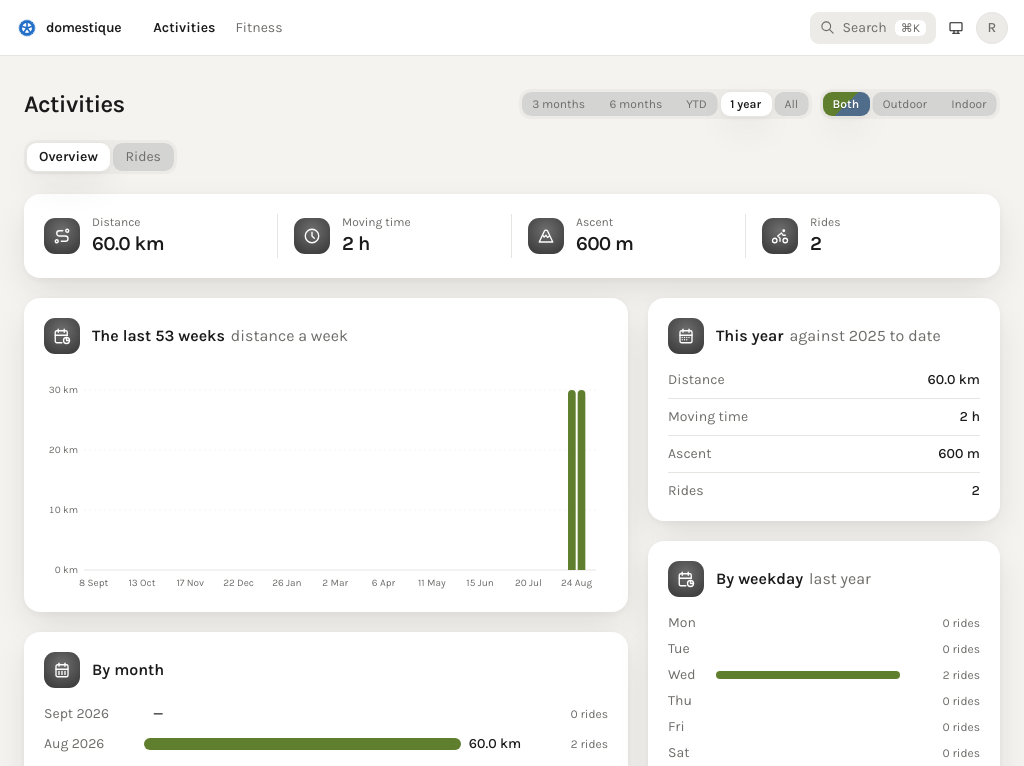
Scenario: the activities page › includes a ride several years old in the totals once all are asked for
Step 1. Click the button "All" → (791, 104), box [774,92,809,116]
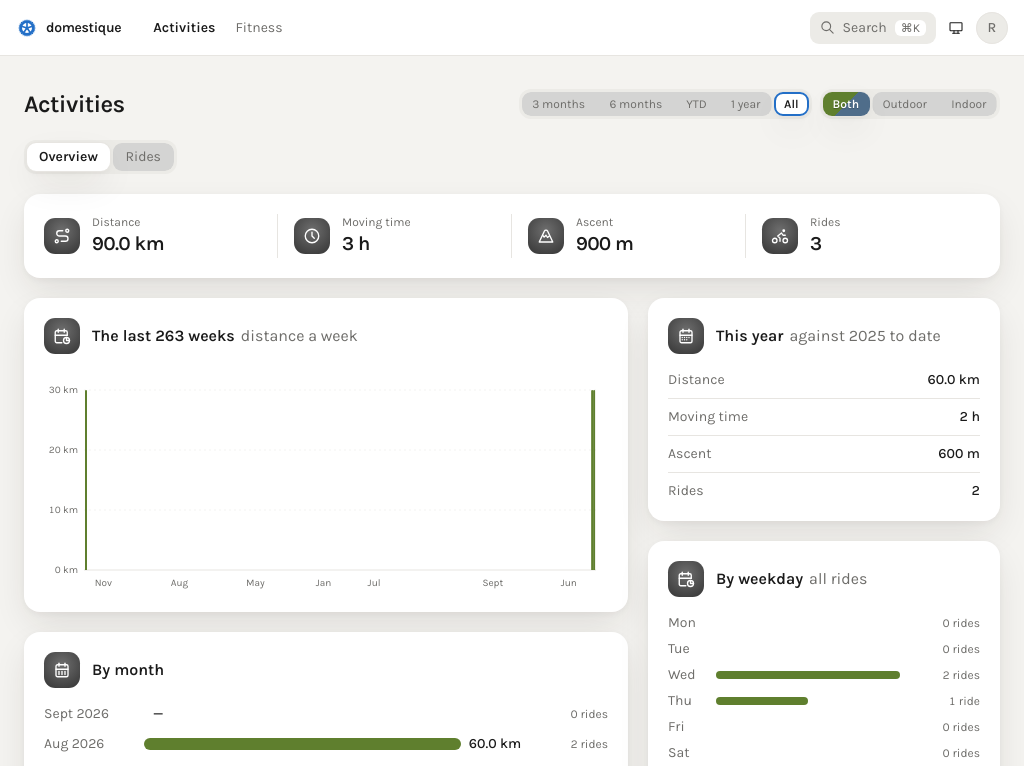
Expected: the element "Distance" shows "90.0 km", [92,232,164,255]
Expected: the element "Moving time" shows "3 h", [342,232,370,255]
Expected: the element "Ascent" shows "900 m", [576,232,633,255]
